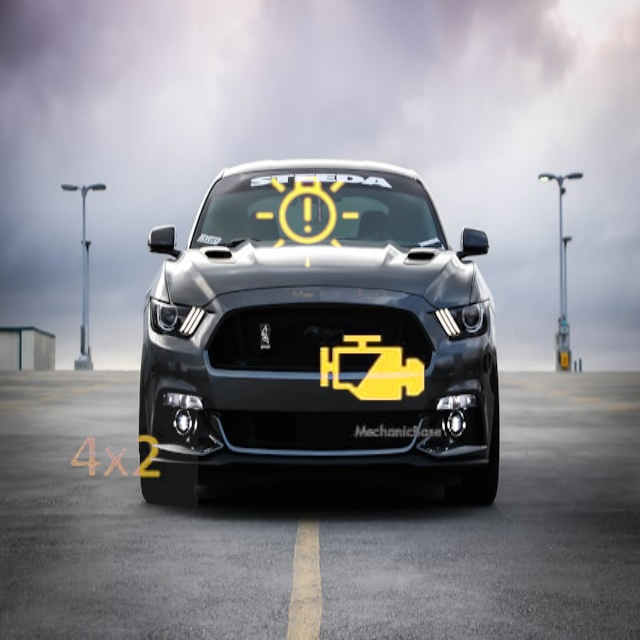symbol: (224, 137, 395, 308), (32, 375, 198, 541), (296, 293, 447, 444)
